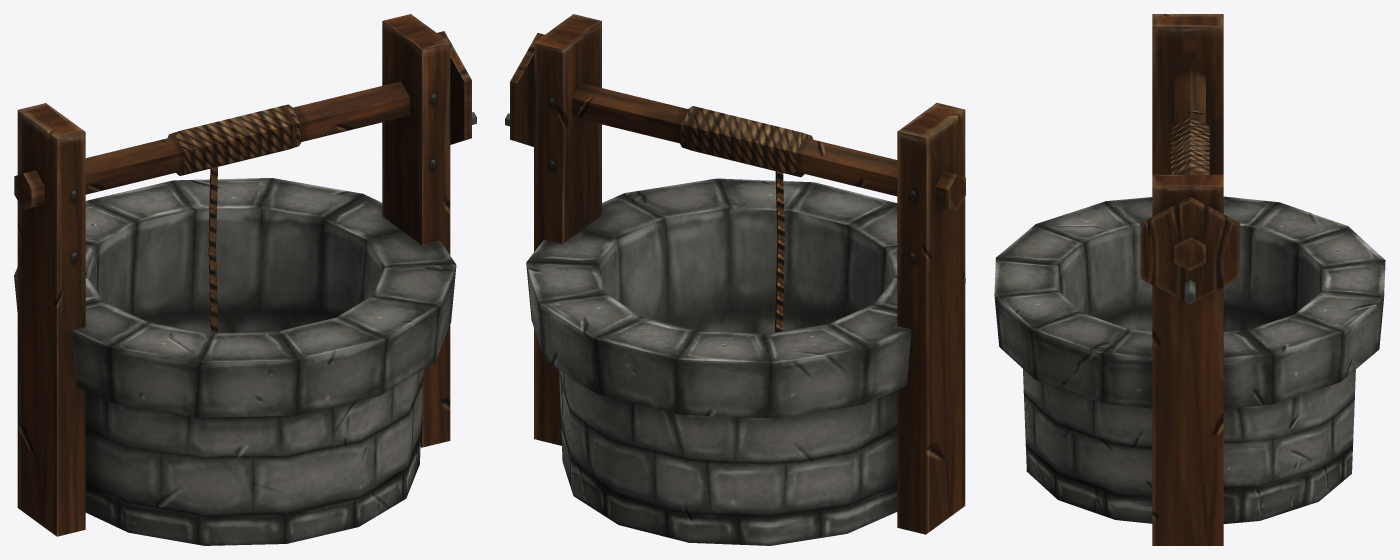
The model's file is modelPond2.fbx.
The picture shows the model from 3 angles, left to right: view 1: azimuth 30°, elevation 25°; view 2: azimuth 150°, elevation 25°; view 3: azimuth 270°, elevation 25°; orthographic projection. The views are drawn at different scales.
Parts seen in each view (by area): view 1: modelPond2; view 2: modelPond2; view 3: modelPond2.
Part boxes in pixels (box(x1,y1,x2,y2)): modelPond2: box(14, 14, 476, 545); modelPond2: box(505, 14, 965, 545); modelPond2: box(994, 14, 1385, 545).
Size of the model in its own units: 25.24 by 21.28 by 21.02.
